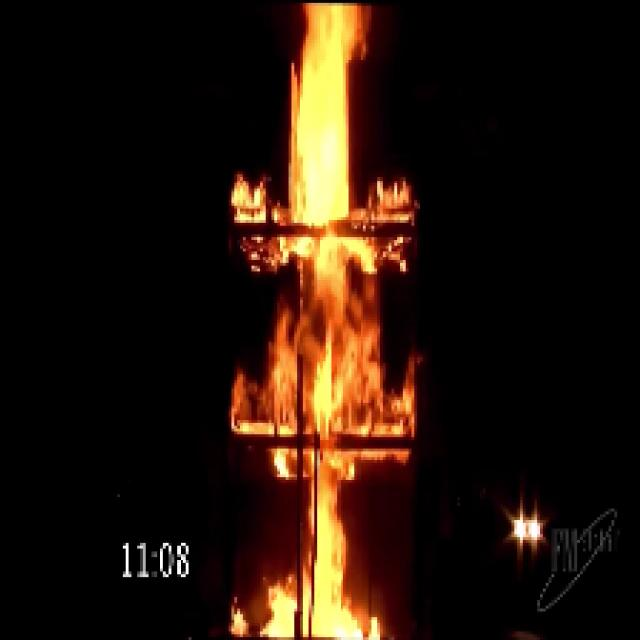fire: (267, 6, 376, 635)
